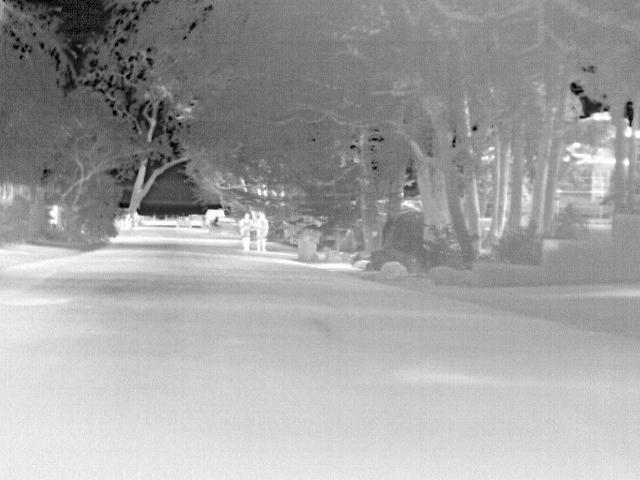car: (209, 218, 238, 237), (201, 207, 221, 227), (174, 214, 192, 228)
person: (237, 209, 254, 253), (255, 210, 270, 254)
